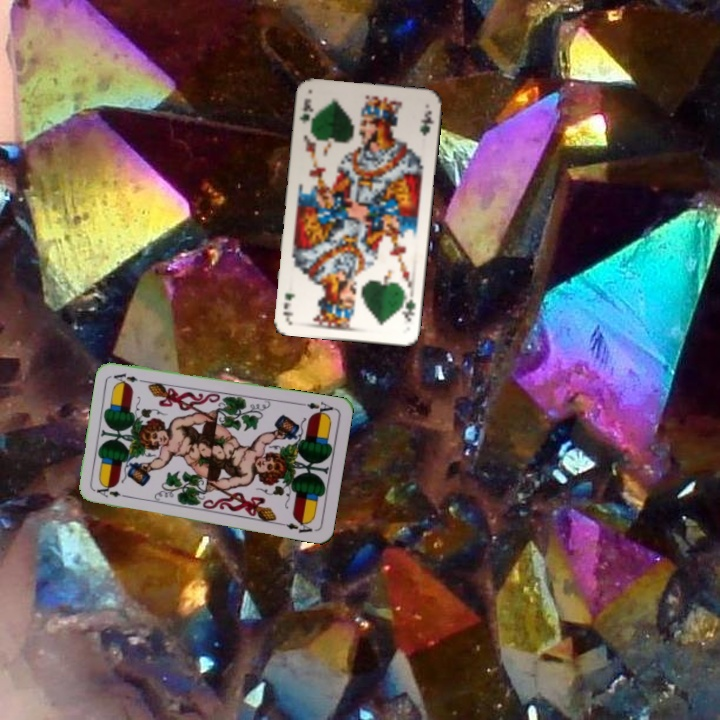EA: (297, 397, 337, 418), (93, 484, 132, 500)
GK: (398, 291, 418, 324), (296, 94, 316, 126)
